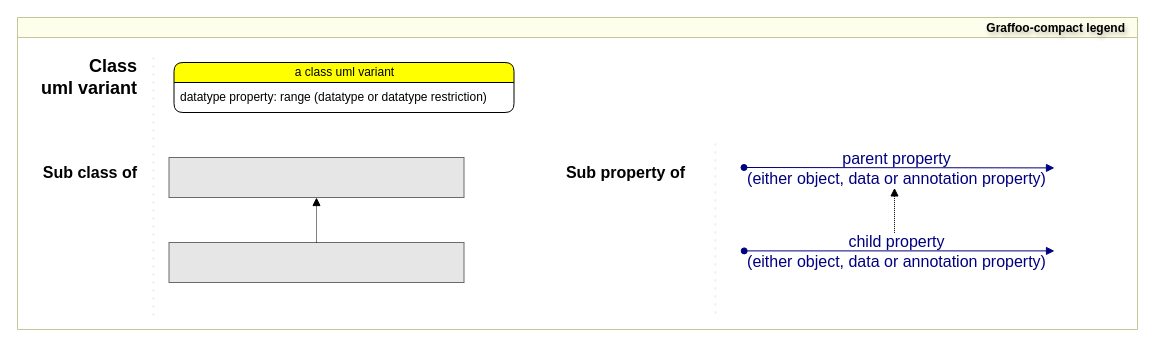
Image size: 1155x347. Some labels were removed from this diagram. Here are the shapes that lost their labels. From the top down, the centre of each, then its label:
point (316, 177): parent class
point (316, 262): child class
